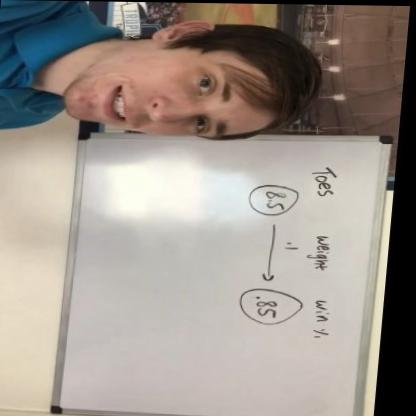Handwritten text: (302, 232, 343, 273), (309, 164, 343, 202), (312, 295, 336, 326)
Lecturer: (0, 5, 332, 141)
Whiteboard: (54, 132, 398, 416)
